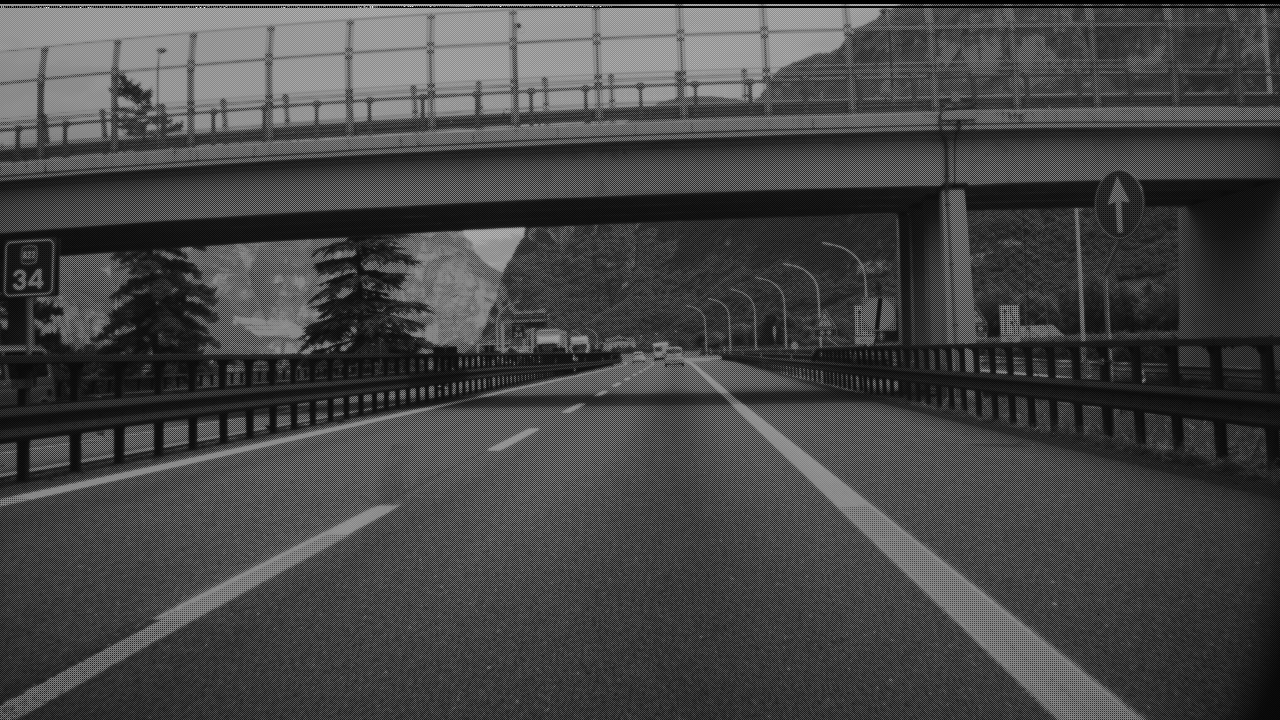pole: (1074, 200, 1086, 333), (815, 279, 822, 337), (781, 286, 786, 339)
